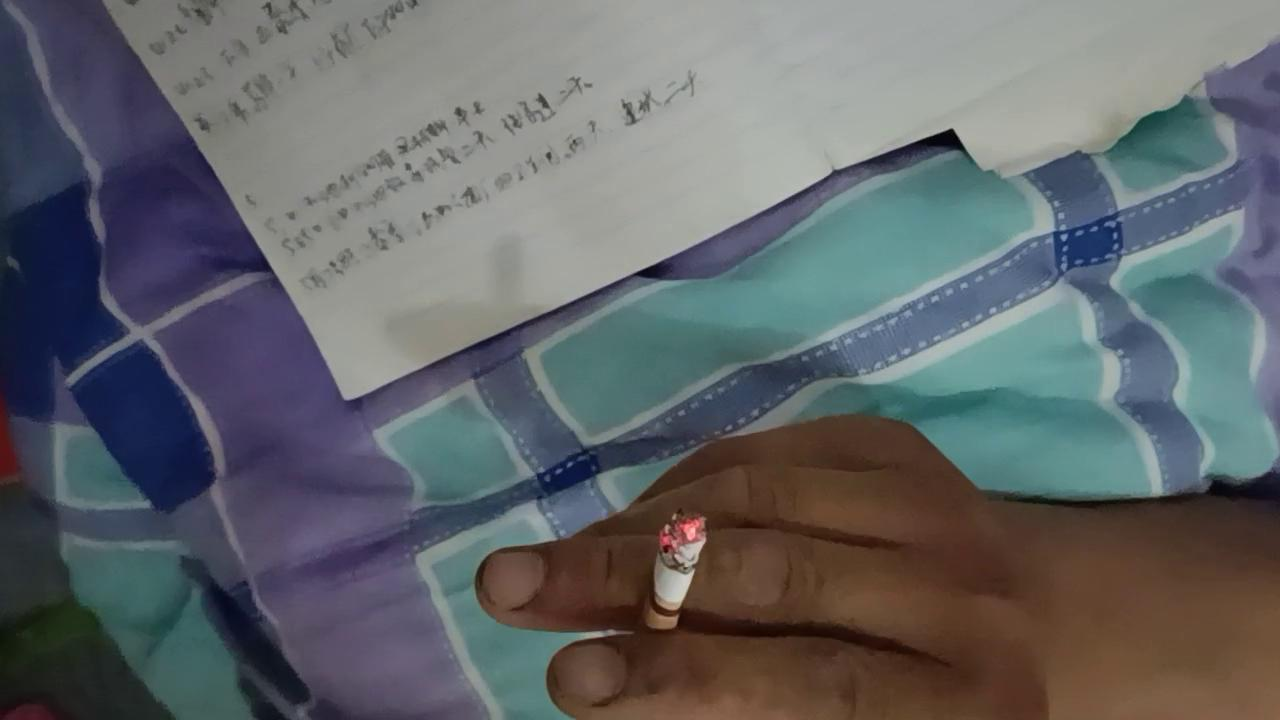smoke: (628, 512, 712, 676)
